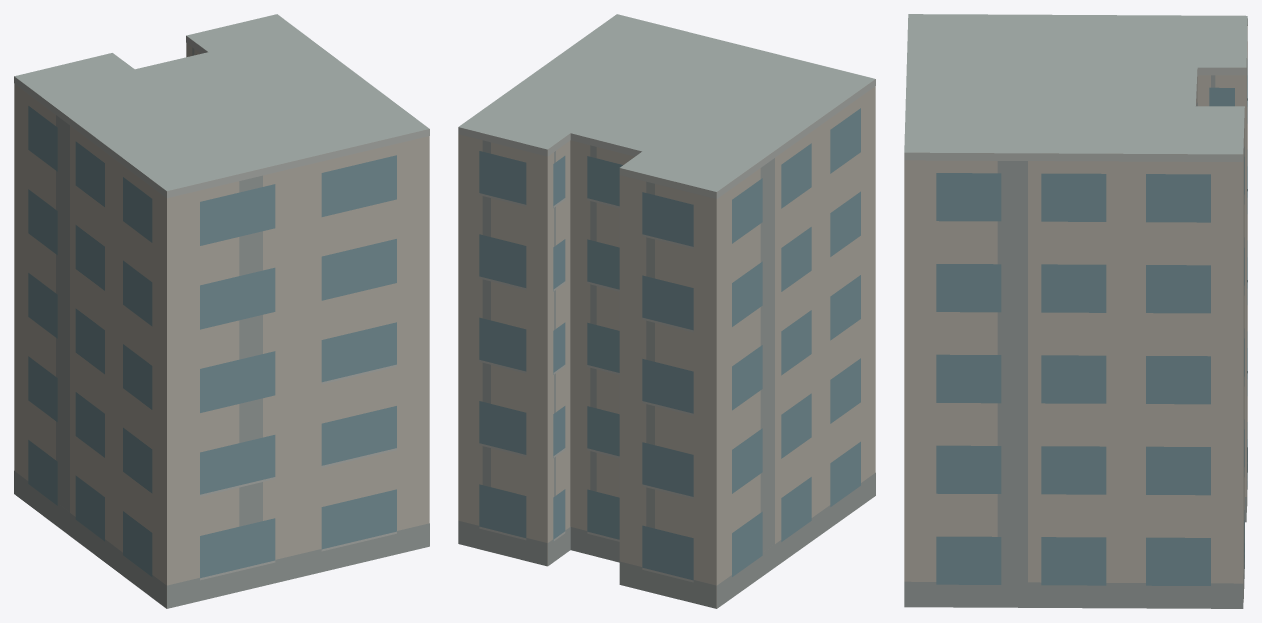
The model's file is survey-upis-32630815.glb.
3 views of the same model, side by side, from view 1: azimuth 30°, elevation 25°; view 2: azimuth 150°, elevation 25°; view 3: azimuth 270°, elevation 25° (orthographic). The views are drawn at different scales.
Visible parts, largest first — view 1: survey-upis-32630815.tmp; view 2: survey-upis-32630815.tmp; view 3: survey-upis-32630815.tmp.
Part boxes in pixels (x1,y1,x2,y2): survey-upis-32630815.tmp: (14,14,429,608); survey-upis-32630815.tmp: (458,14,875,608); survey-upis-32630815.tmp: (904,14,1247,608).
Bounding box in the file's own units: 9.52 × 14.35 × 9.84.
